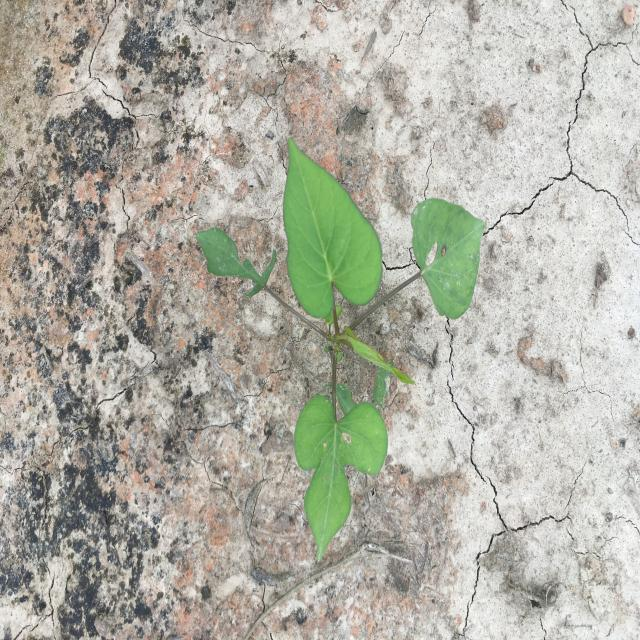MorningGlory: (196, 136, 485, 563)
